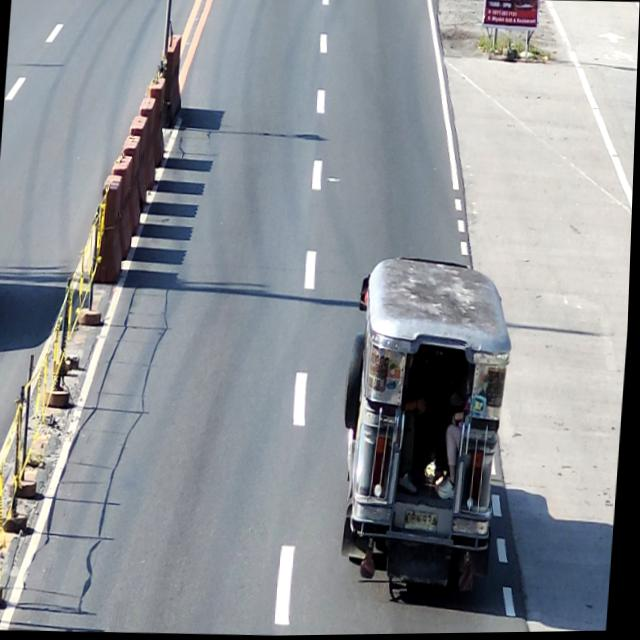Jeep: (338, 254, 521, 594)
License-Plate: (407, 512, 443, 532)
